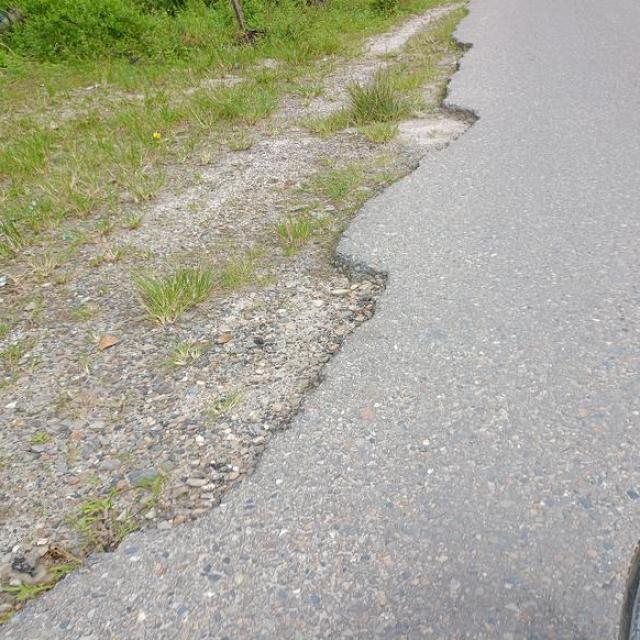Pinggir: (0, 31, 505, 640)
